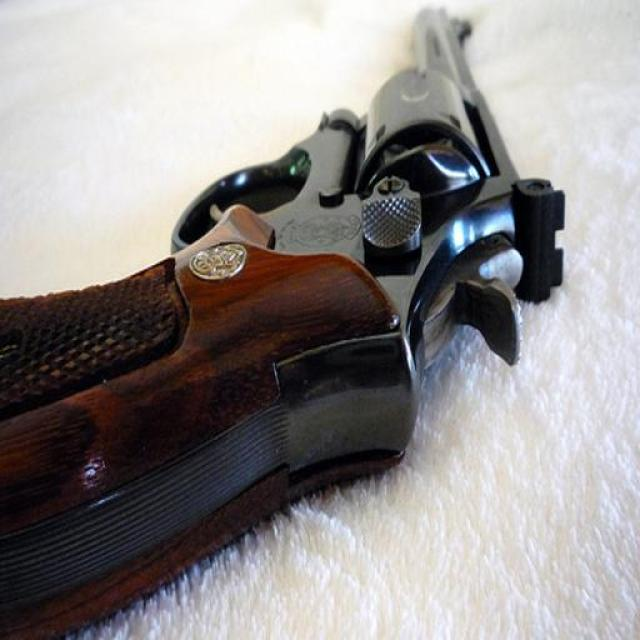pistol: (2, 20, 562, 634)
